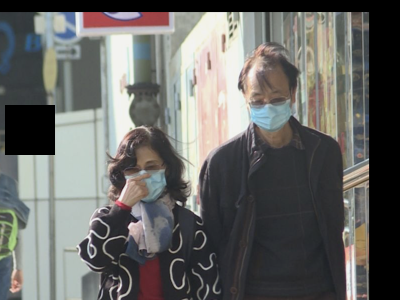with_mask: (123, 159, 168, 206), (245, 88, 293, 130)
